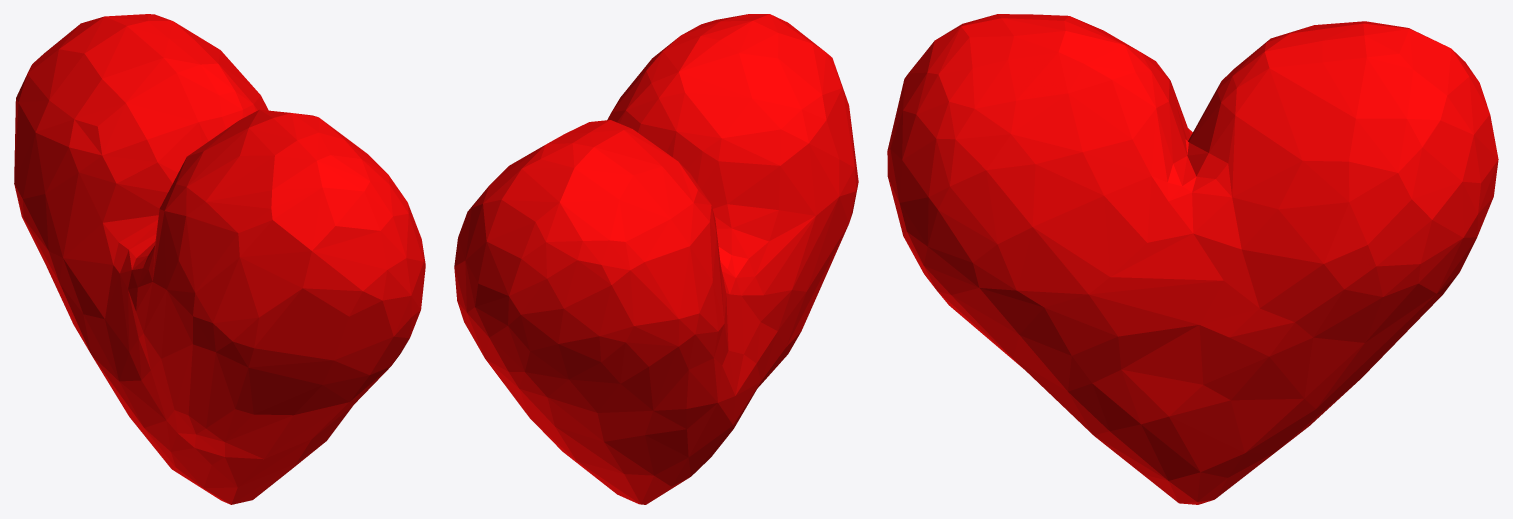
Rendered from Coeur.fbx.
The picture shows the model from 3 angles, left to right: view 1: azimuth 30°, elevation 25°; view 2: azimuth 150°, elevation 25°; view 3: azimuth 270°, elevation 25°; orthographic projection. The views are drawn at different scales.
Parts seen in each view (by area): view 1: Coeur; view 2: Coeur; view 3: Coeur.
Boxes of the visible parts, <box> form: Coeur: <box>14,14,425,504</box>; Coeur: <box>454,14,858,504</box>; Coeur: <box>887,14,1498,504</box>.
Bounding box in the file's own units: 247 × 427 × 501.
